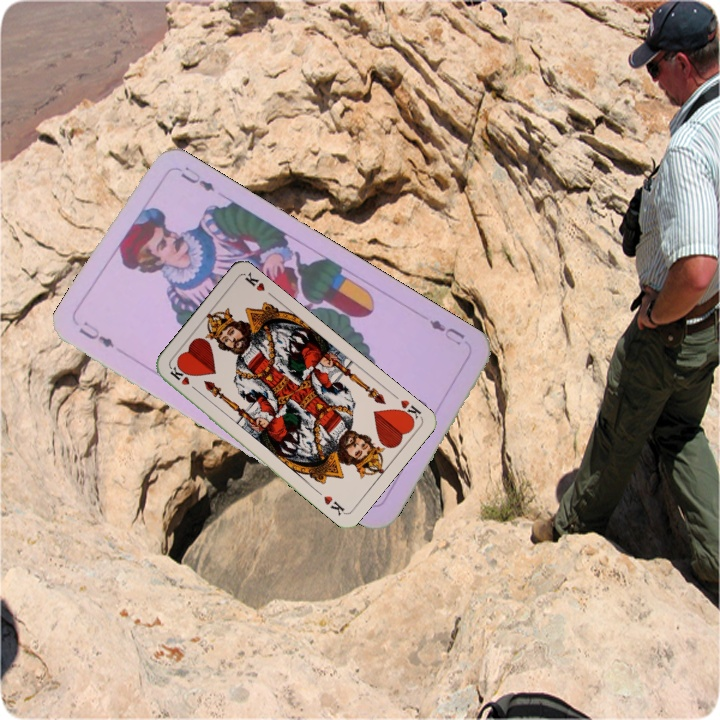EU: (425, 315, 468, 349), (75, 317, 117, 351)
HK: (166, 362, 201, 394), (394, 396, 424, 425)
